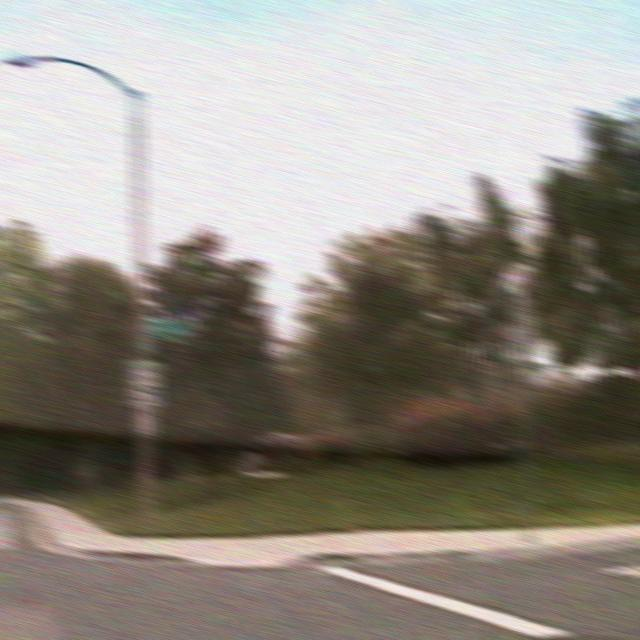speedLimit35: (126, 357, 162, 406)
